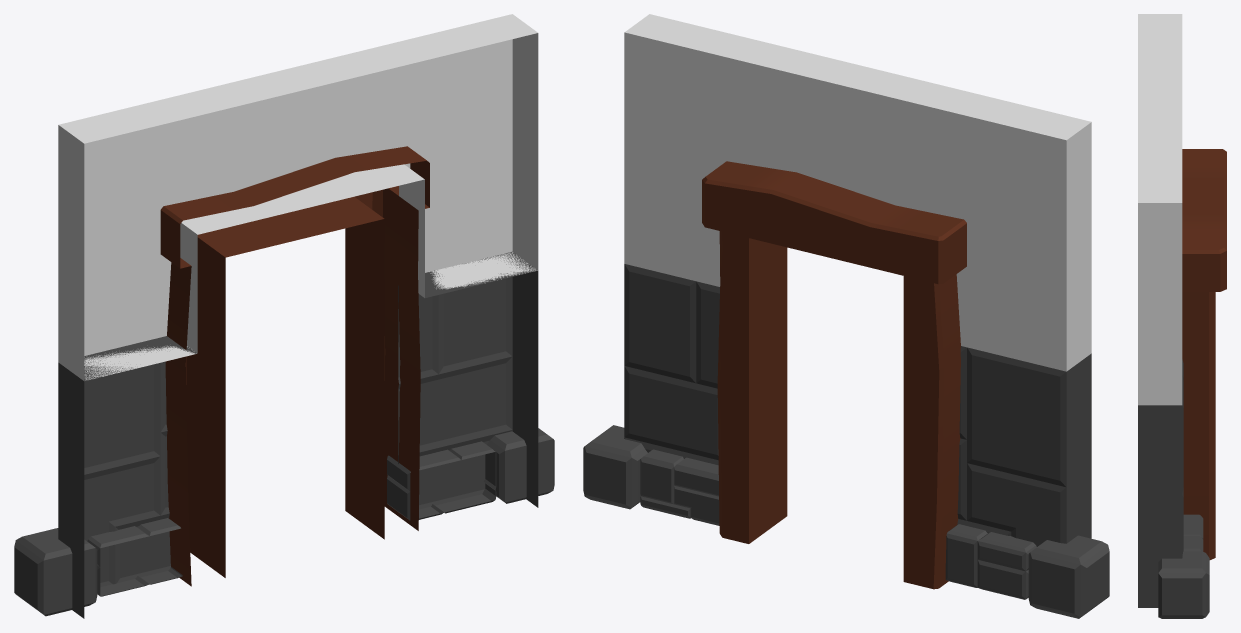
File: Doorway.fbx
3 views of the same model, side by side, from view 1: azimuth 30°, elevation 25°; view 2: azimuth 150°, elevation 25°; view 3: azimuth 270°, elevation 25° (orthographic). The views are drawn at different scales.
Parts seen in each view (by area): view 1: Doorway_Wall, Doorway, Stone__Doorway_1, Stone_Doorway, Stone_Edge1, Stone_Curb_Door, Stone_Edge, Stone_Curb_Door_1; view 2: Doorway_Wall, Doorway, Stone_Doorway, Stone__Doorway_1, Stone_Edge1, Stone_Curb_Door_1, Stone_Curb_Door, Stone_Edge; view 3: Doorway_Wall, Doorway, Stone__Doorway_1, Stone_Edge, Stone_Curb_Door.
Part boxes in pixels (box(x1,y1,x2,y2)): Doorway_Wall: box(58, 14, 538, 380); Doorway: box(160, 146, 429, 586); Stone__Doorway_1: box(398, 251, 538, 509); Stone_Doorway: box(58, 336, 197, 618); Stone_Edge1: box(14, 528, 97, 616); Stone_Curb_Door: box(387, 441, 496, 520); Stone_Edge: box(487, 428, 554, 503); Stone_Curb_Door_1: box(87, 518, 182, 596); Doorway_Wall: box(624, 14, 1091, 371); Doorway: box(702, 161, 966, 589); Stone_Doorway: box(957, 346, 1091, 546); Stone__Doorway_1: box(624, 264, 719, 465); Stone_Edge1: box(1028, 535, 1109, 618); Stone_Curb_Door_1: box(945, 524, 1036, 599); Stone_Curb_Door: box(640, 449, 719, 525); Stone_Edge: box(583, 425, 647, 509); Doorway_Wall: box(1138, 14, 1182, 405); Doorway: box(1182, 149, 1226, 559); Stone__Doorway_1: box(1138, 359, 1183, 607); Stone_Edge: box(1158, 551, 1209, 618); Stone_Curb_Door: box(1183, 514, 1203, 551).
Size of the model in its own units: 0.0228 by 0.0201 by 0.00397.
